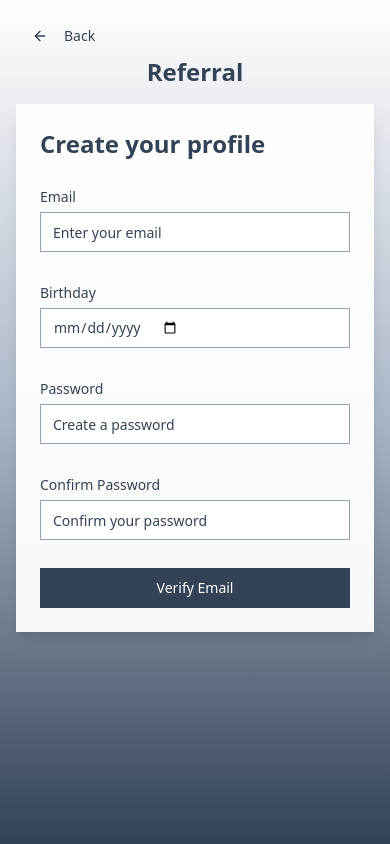
RegisterPage hook-order safety across the emailVerificationSent transition › renders the form, then the verification-sent screen, without a hook-order React warning
Expected: the button with test id "button-submit" is shown, [40,568,350,608]
Type "form-user@example.com" into the field with test id "input-email" at [195, 232], box [40,212,350,252]
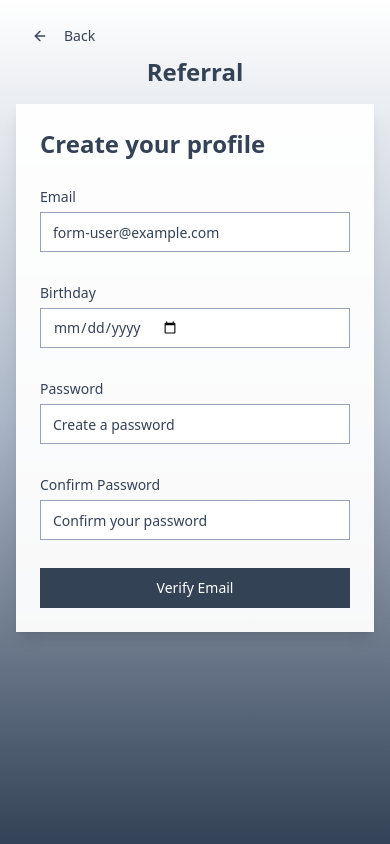
Type "Sup3r$ecret!" into the password field with test id "input-password" at [195, 424], box [40,404,350,444]
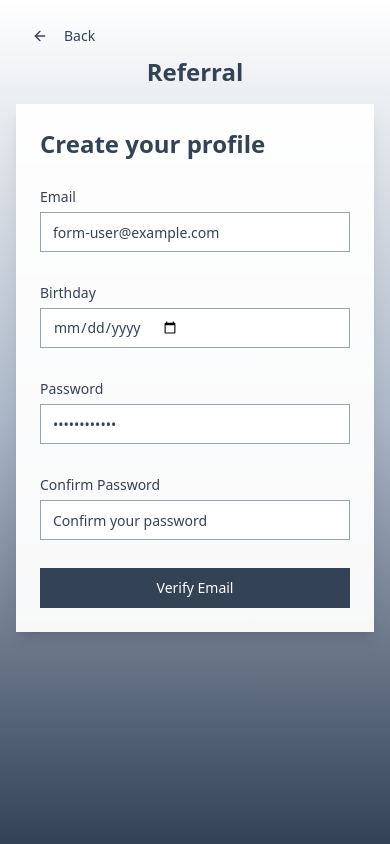
Type "Sup3r$ecret!" into the password field with test id "input-confirm-password" at [195, 520], box [40,500,350,540]
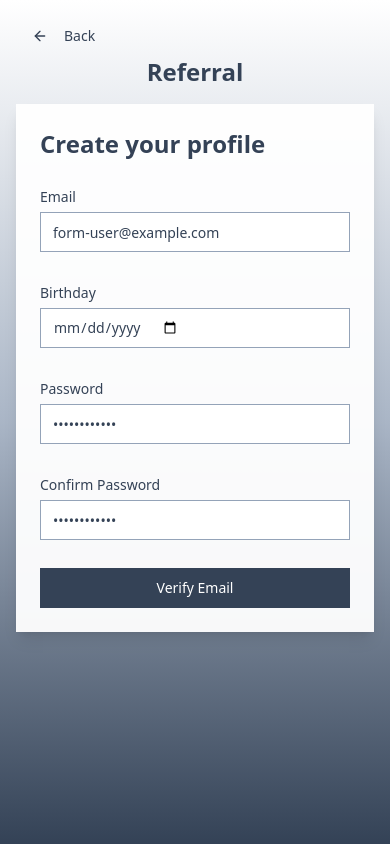
Submit the form with test id "button-submit", box [40,184,350,608]
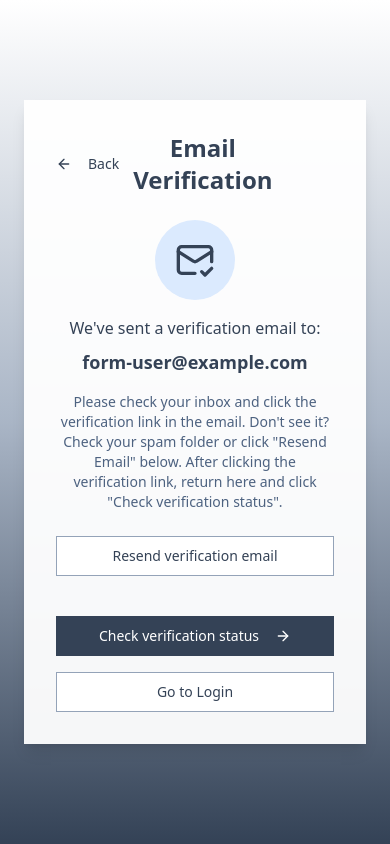
Result: the heading "Email Verification" is shown at [133,131,272,196]
